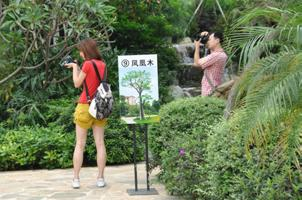person: (194, 31, 229, 99)
